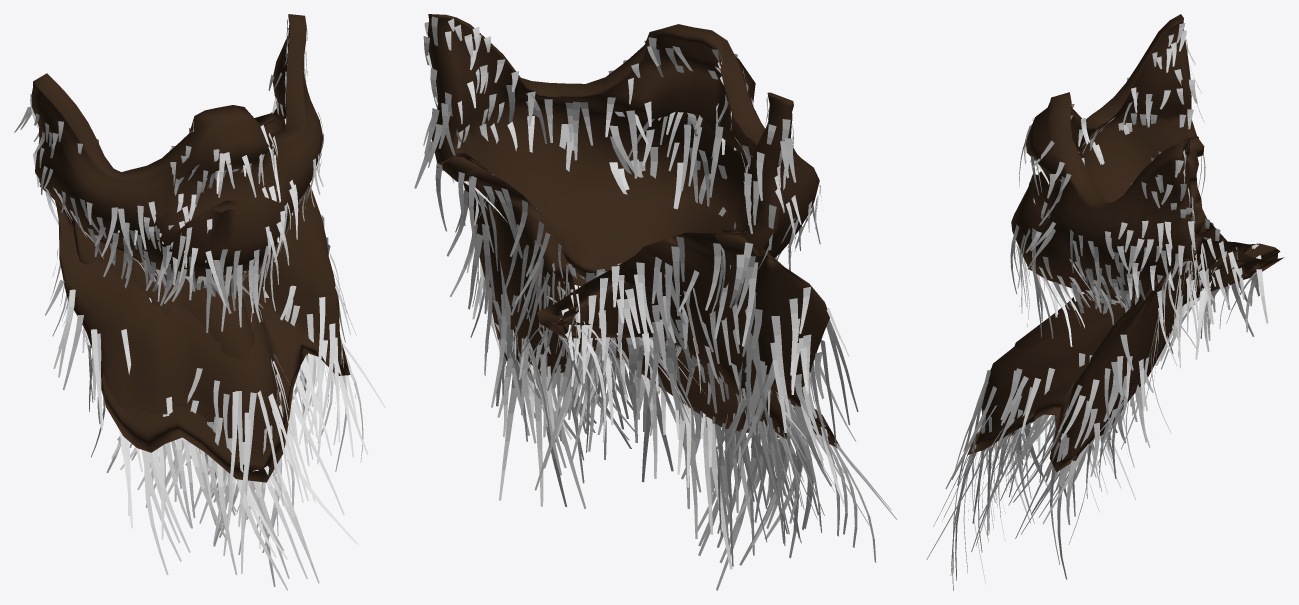
The model's file is beard-warden-full.glb.
The picture shows the model from 3 angles, left to right: view 1: azimuth 30°, elevation 25°; view 2: azimuth 150°, elevation 25°; view 3: azimuth 270°, elevation 25°; orthographic projection. The views are drawn at different scales.
Visible parts, largest first — view 1: beard-warden-full_1, beard__strands; view 2: beard-warden-full_1, beard__strands; view 3: beard-warden-full_1, beard__strands.
Part boxes in pixels (x1,y1,x2,y2): beard-warden-full_1: (31,14,350,482); beard__strands: (14,19,385,590); beard-warden-full_1: (427,14,839,448); beard__strands: (414,16,897,590); beard-warden-full_1: (967,14,1284,472); beard__strands: (926,23,1268,590).
Size of the model in its own units: 0.1864 by 0.2799 by 0.1825.
